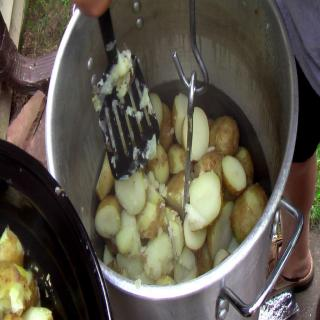Potato: (94, 91, 269, 288), (0, 228, 54, 320), (230, 184, 268, 246), (212, 113, 241, 154)
